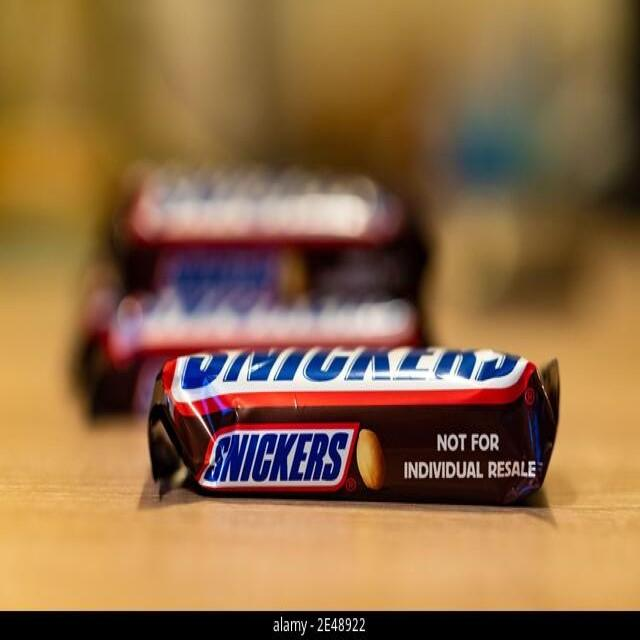snickers_chocolate: (177, 348, 553, 490)
